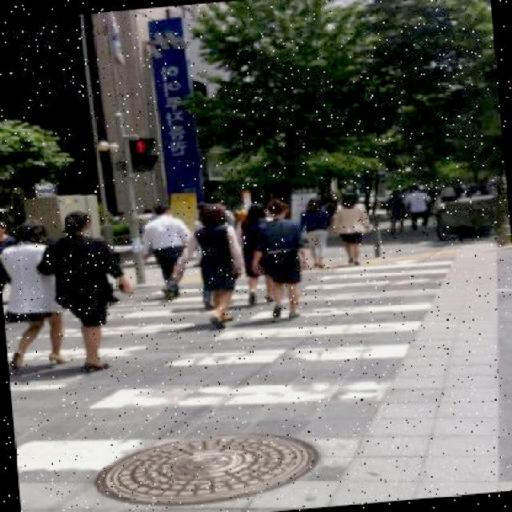pessoa: (37, 208, 131, 379), (0, 217, 66, 376), (244, 197, 313, 322), (185, 202, 249, 333), (137, 199, 194, 302), (332, 189, 374, 266), (296, 196, 333, 269), (402, 184, 432, 237)
